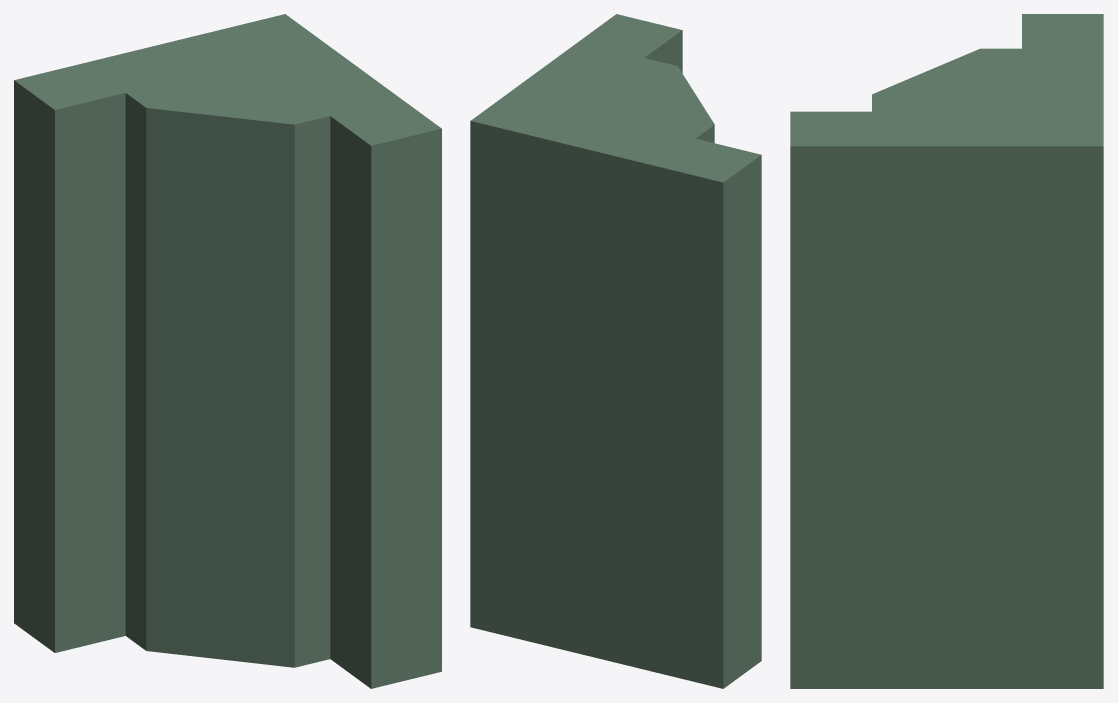
Rendered from W2_WallCorner_Angular2B.fbx.
3 views of the same model, side by side, from view 1: azimuth 30°, elevation 25°; view 2: azimuth 150°, elevation 25°; view 3: azimuth 270°, elevation 25° (orthographic). The views are drawn at different scales.
Visible parts, largest first — view 1: W2_WallCorner_Angular2B.001; view 2: W2_WallCorner_Angular2B.001; view 3: W2_WallCorner_Angular2B.001.
Boxes of the visible parts, x1=… form: W2_WallCorner_Angular2B.001: x1=14, y1=14, x2=441, y2=688; W2_WallCorner_Angular2B.001: x1=470, y1=14, x2=761, y2=688; W2_WallCorner_Angular2B.001: x1=790, y1=14, x2=1103, y2=688.
Bounding box in the file's own units: 1.15 × 2.2 × 1.15.
